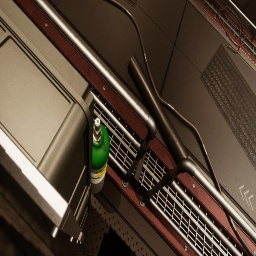0: (90, 118, 110, 194)
NitrogenTank ,: (250, 19, 256, 38)
